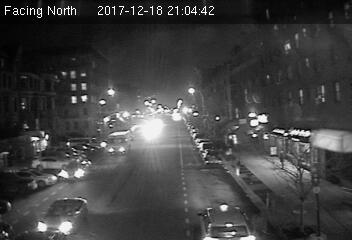car: (36, 195, 88, 238), (197, 206, 255, 238), (59, 158, 90, 182), (202, 148, 221, 166)
truck: (106, 131, 132, 156)
